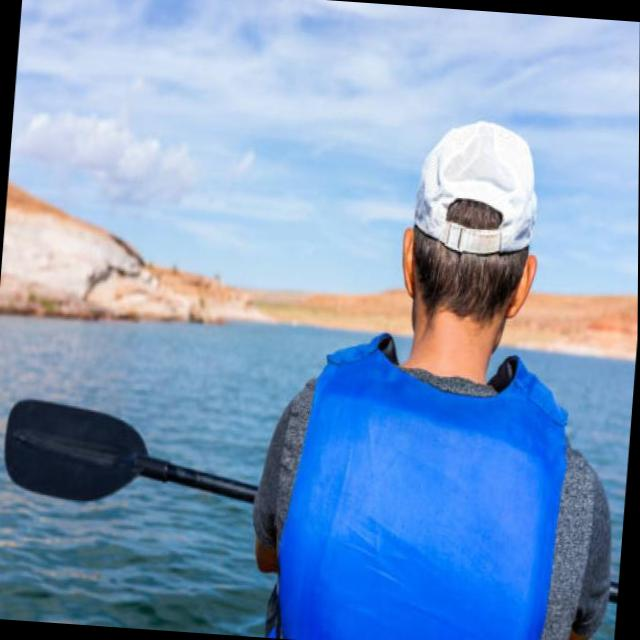no helmet: (380, 108, 554, 392)
